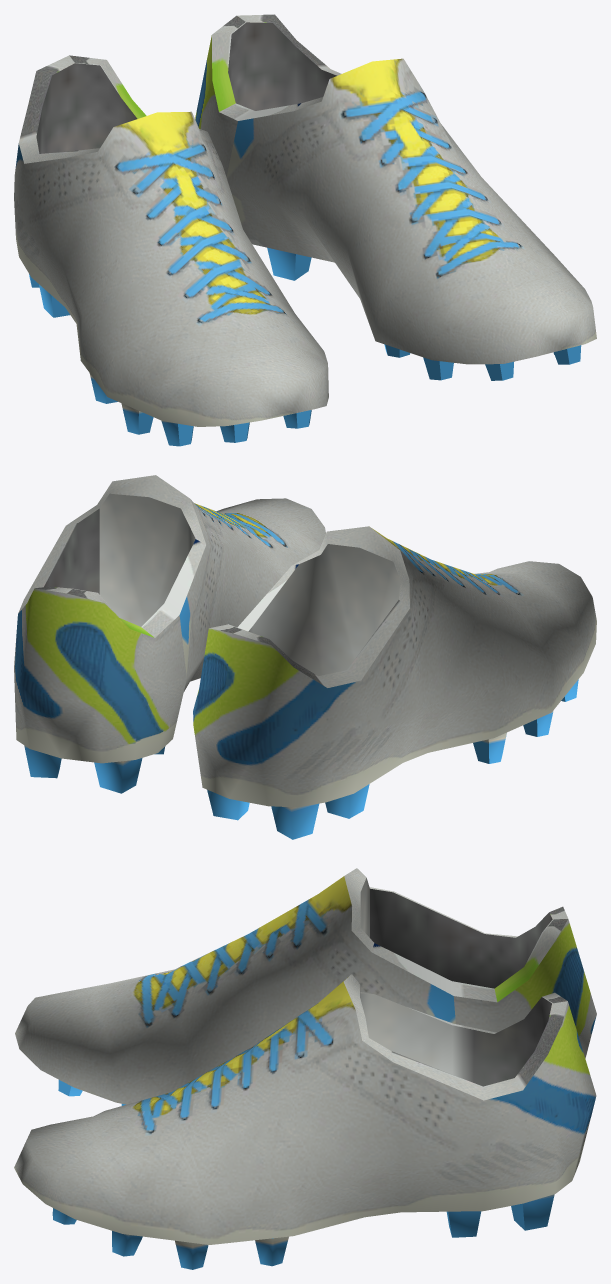
The model's file is shoe_02.FBX.
The picture shows the model from 3 angles, top to bottom: view 1: azimuth 30°, elevation 25°; view 2: azimuth 150°, elevation 25°; view 3: azimuth 270°, elevation 25°; orthographic projection.
Visible parts, largest first — view 1: shoe_02; view 2: shoe_02; view 3: shoe_02.
Part boxes in pixels (x1=…): shoe_02: x1=14, y1=14, x2=596, y2=446; shoe_02: x1=14, y1=475, x2=596, y2=839; shoe_02: x1=14, y1=868, x2=596, y2=1269.
Bounding box in the file's own units: 26.33 × 13.68 × 30.02.
